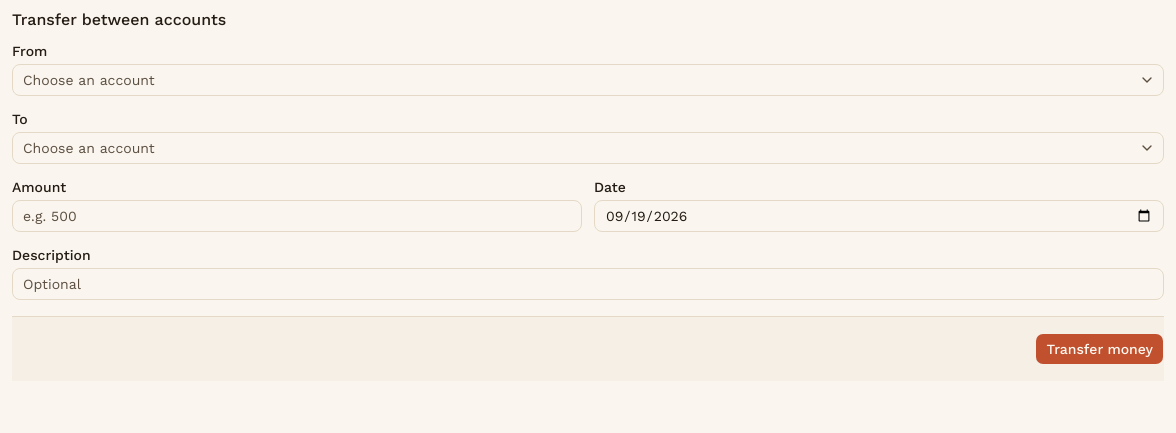
it: <TransferForm /> — two distinct account pickers, no type selector › surfaces a rejected transfer (e.g. an inactive account) as a plain banner, not a crash
This screenshot has width=1176, height=433.
Step 1. Click the dropdown named "From" → (89, 80), box [12,64,1164,96]
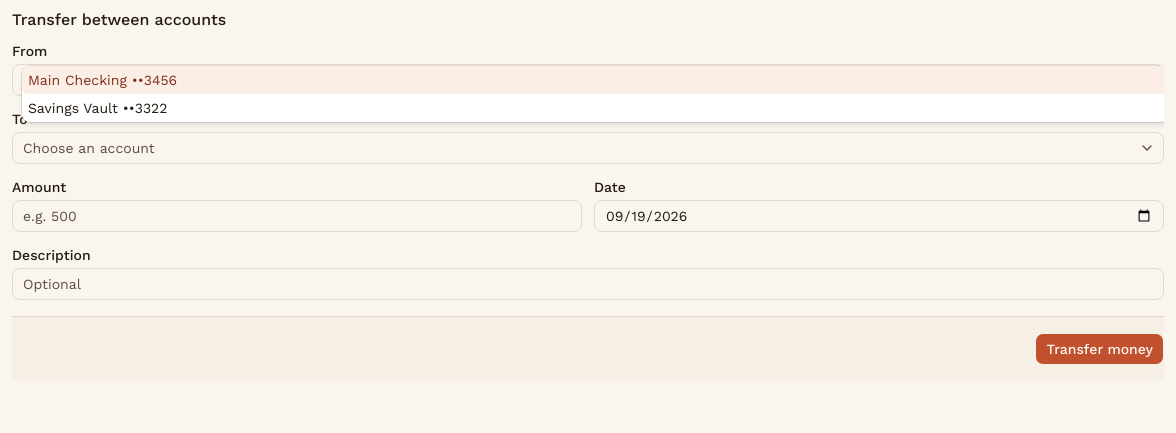
Step 2. Click the option "Main Checking ••3456" → (103, 80), box [22,66,1164,94]
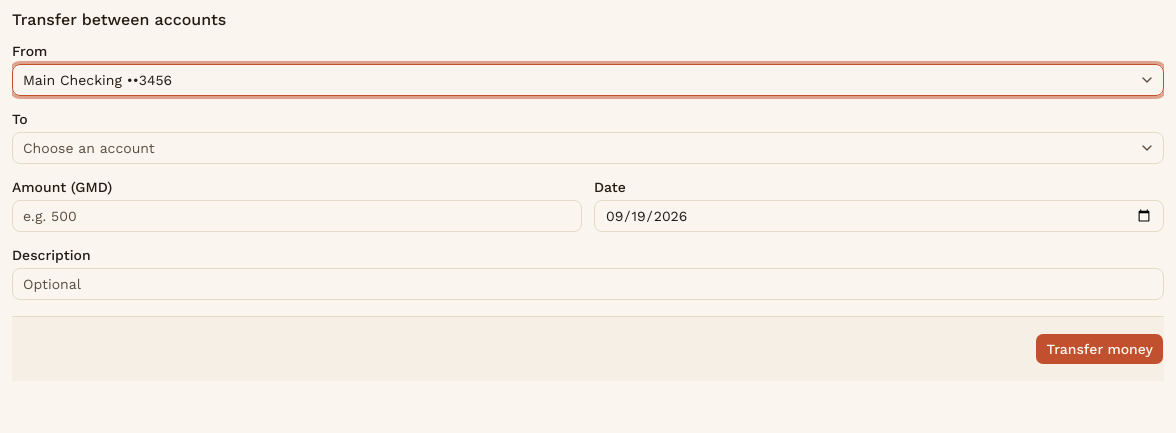
Step 3. Click the dropdown named "To" → (89, 148), box [12,132,1164,164]
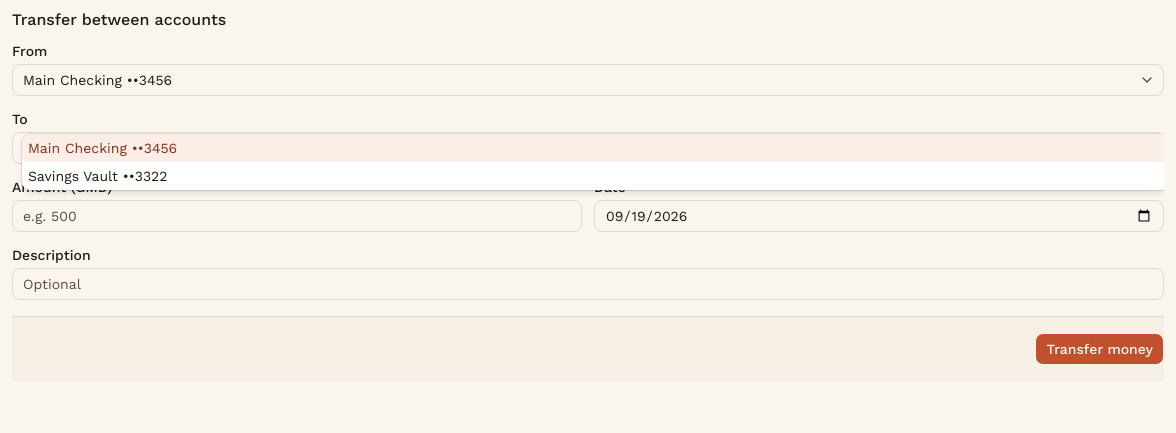
Step 4. Click the option "Savings Vault ••3322" → (98, 176), box [28,168,168,184]
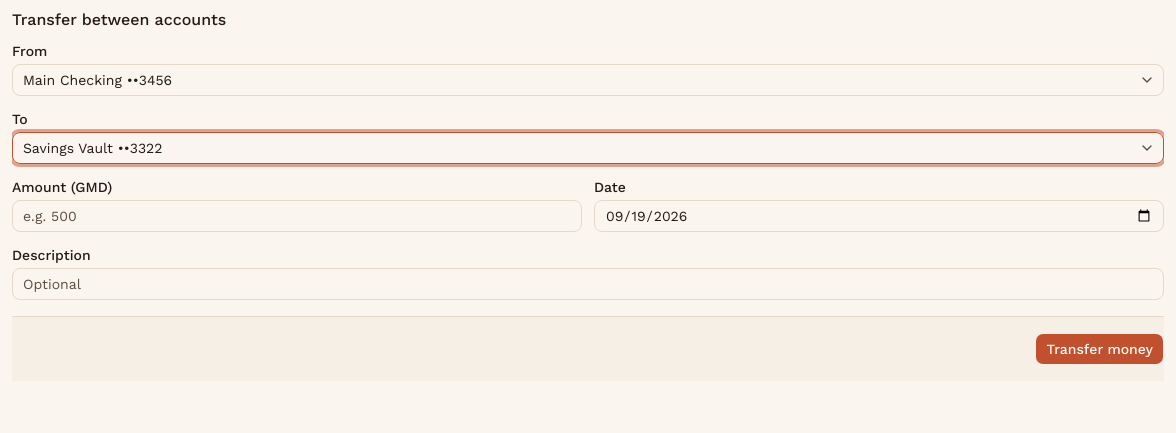
Step 5. Type "100" into the field labelled "Amount (GMD)" → (297, 216), box [12,200,582,232]
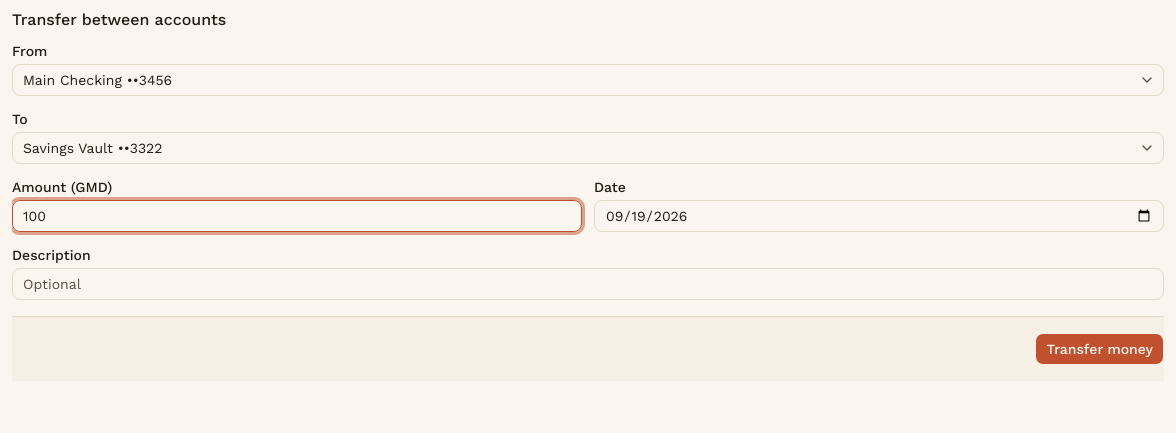
Step 6. Click the button "Transfer money" → (1100, 349), box [1035,333,1164,365]
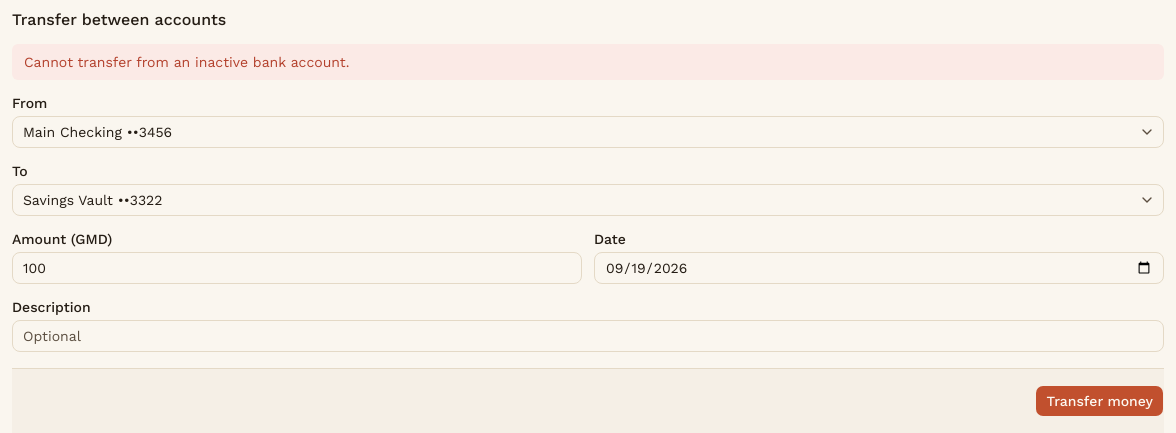
Expected: the text "Cannot transfer from an inactive bank account." is shown, [12,44,1164,80]
